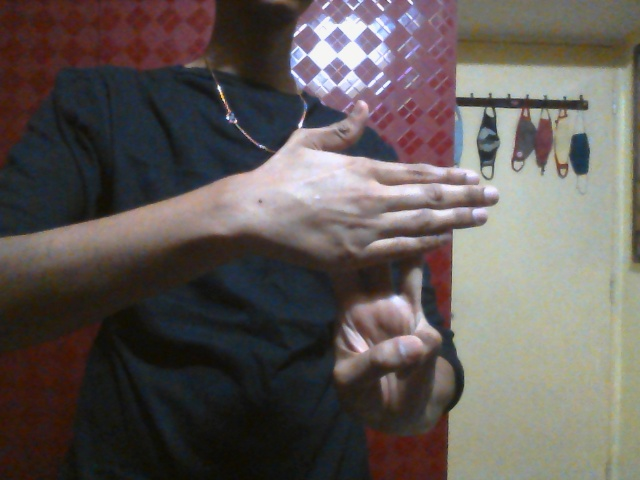M: (281, 100, 500, 426)
